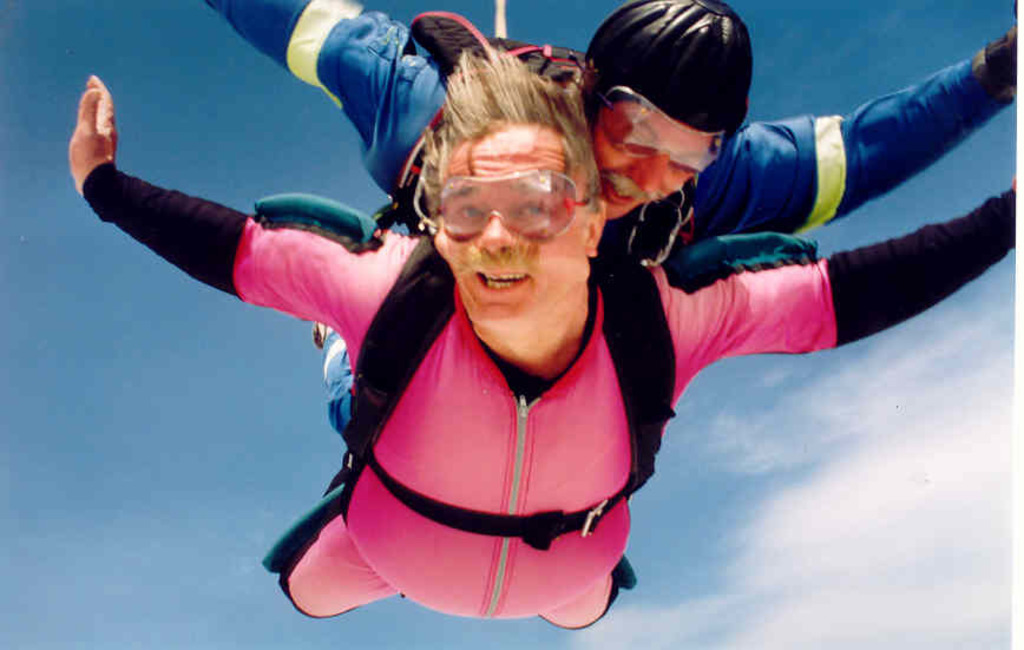Person: (68, 47, 1016, 629)
